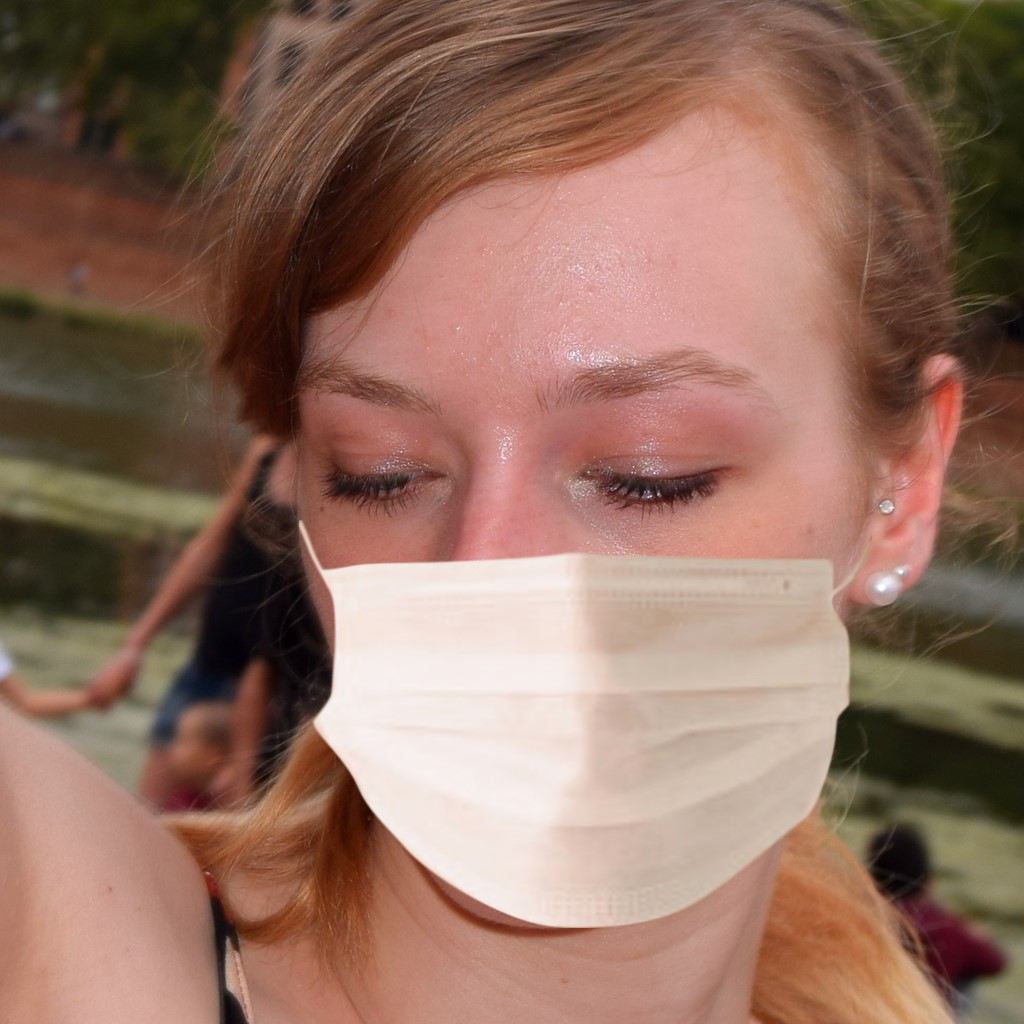con_mascara: (287, 121, 897, 912)
